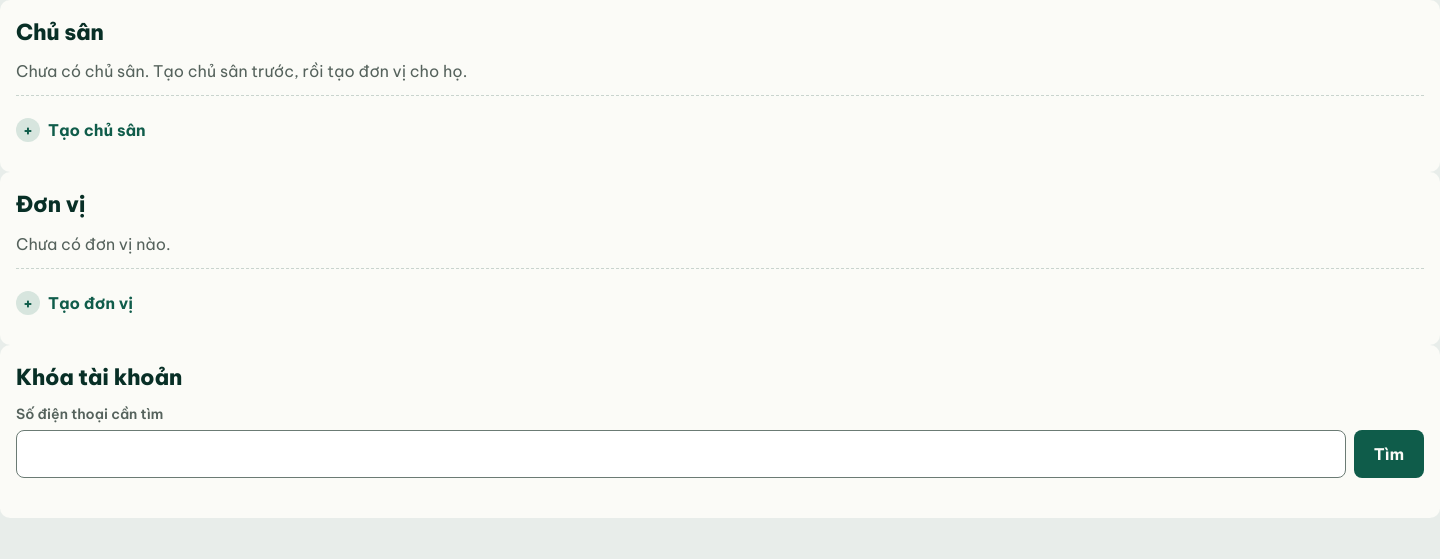
Test case: AdminPanel › says so when no account has the phone number
The image size is (1440, 559).
In the field labelled "Số điện thoại cần tìm": point(681, 454) [16, 430, 1346, 478], type "0909999999"
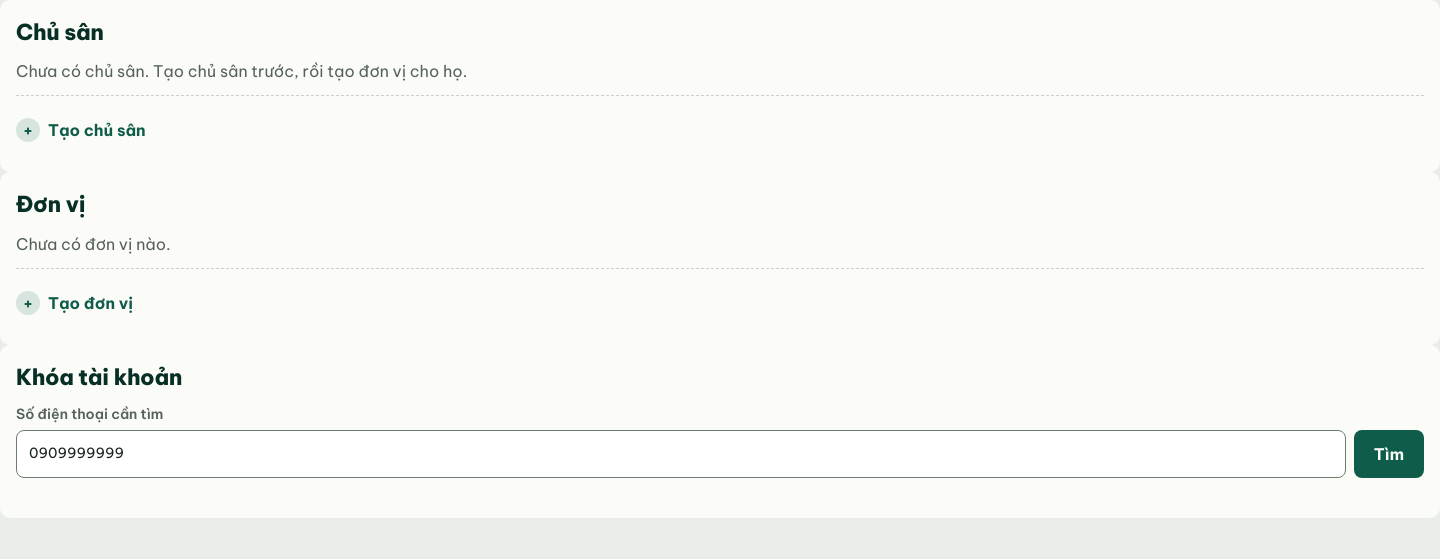
Click the button "Tìm": point(1389, 454) [1354, 430, 1424, 478]
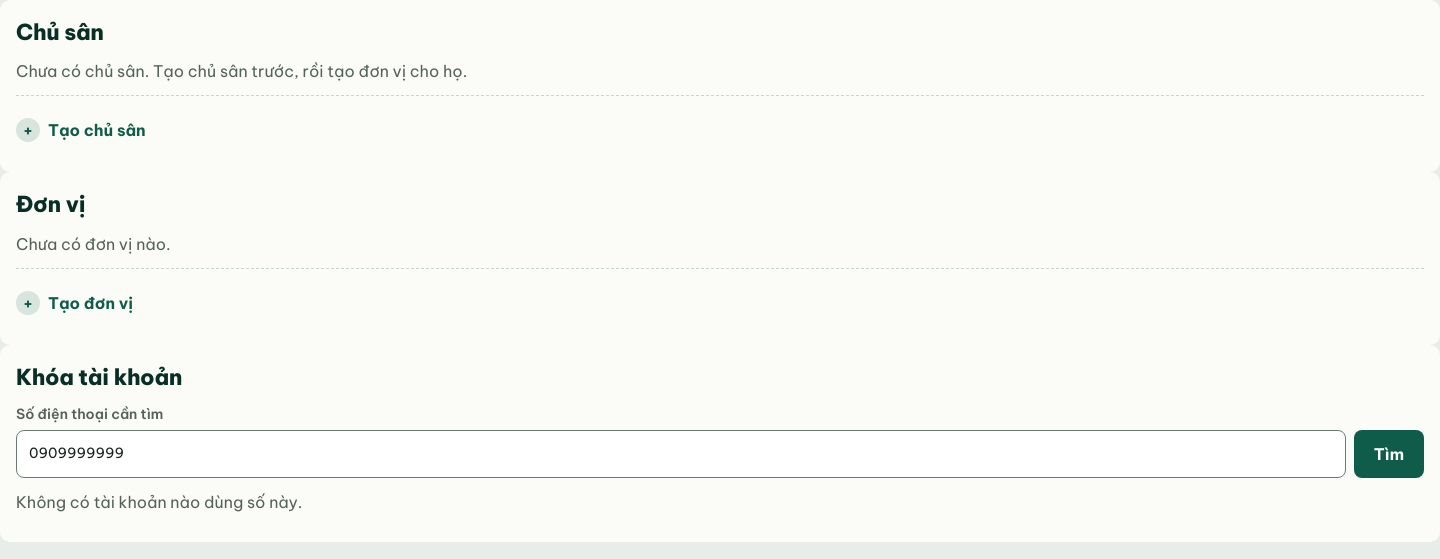
Result: the text "Không có tài khoản nào dùng số này." is shown at [16, 492, 302, 512]
